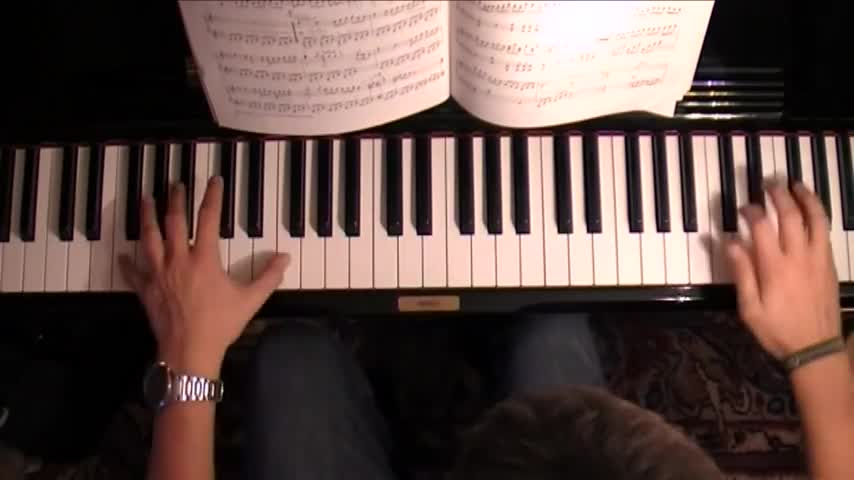left: (111, 175, 293, 331)
right: (721, 171, 845, 357)
